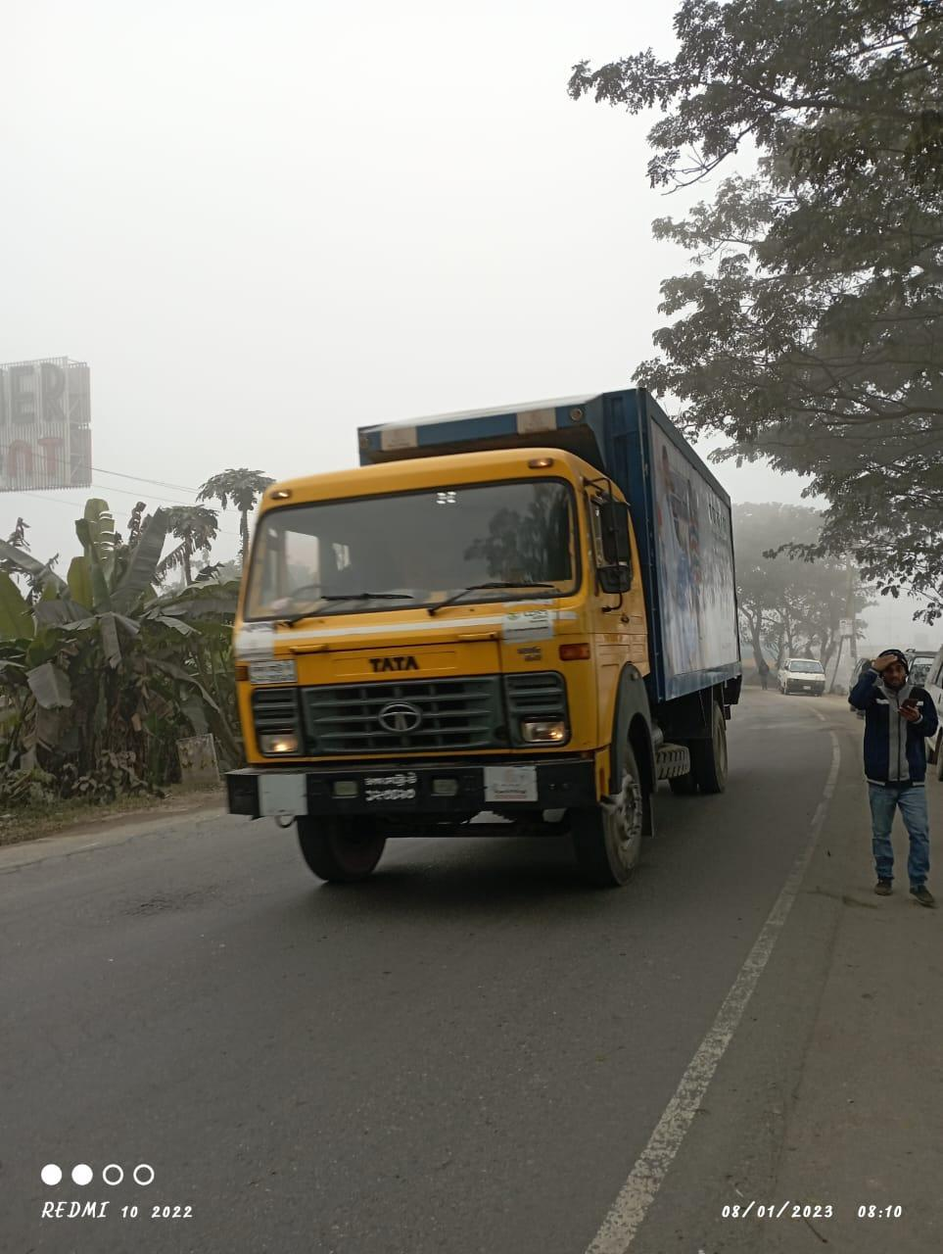Car: (769, 651, 832, 699)
Truck: (227, 379, 744, 881)
